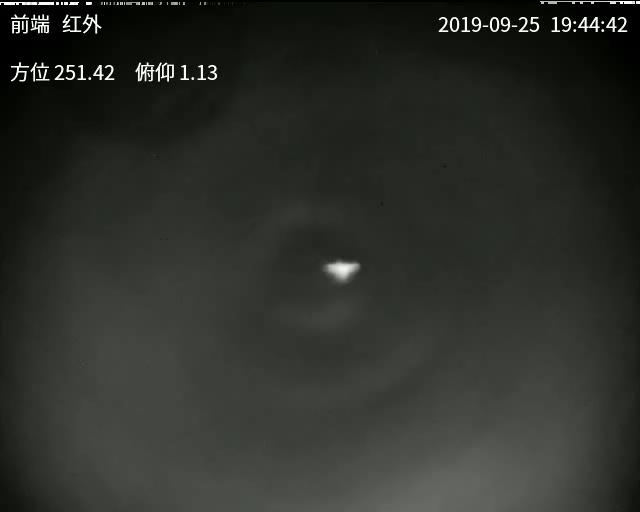uav: (318, 255, 361, 286)
